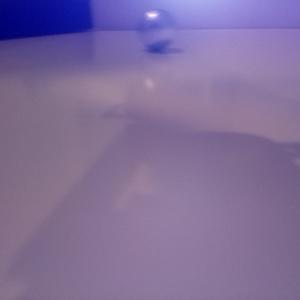alive_ball: (137, 8, 175, 50)
